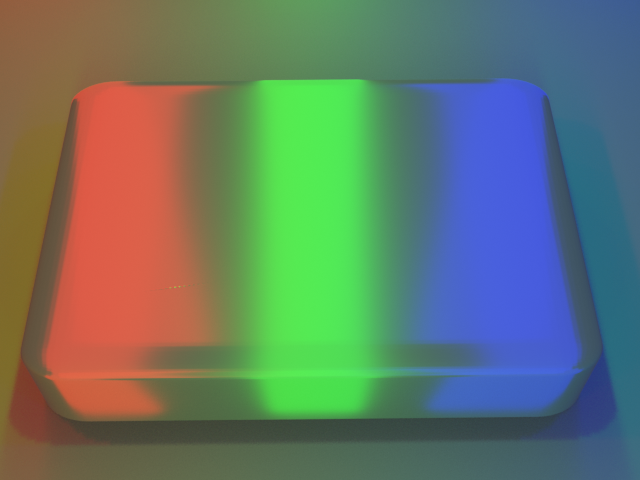scratch: (56, 237, 253, 354)
